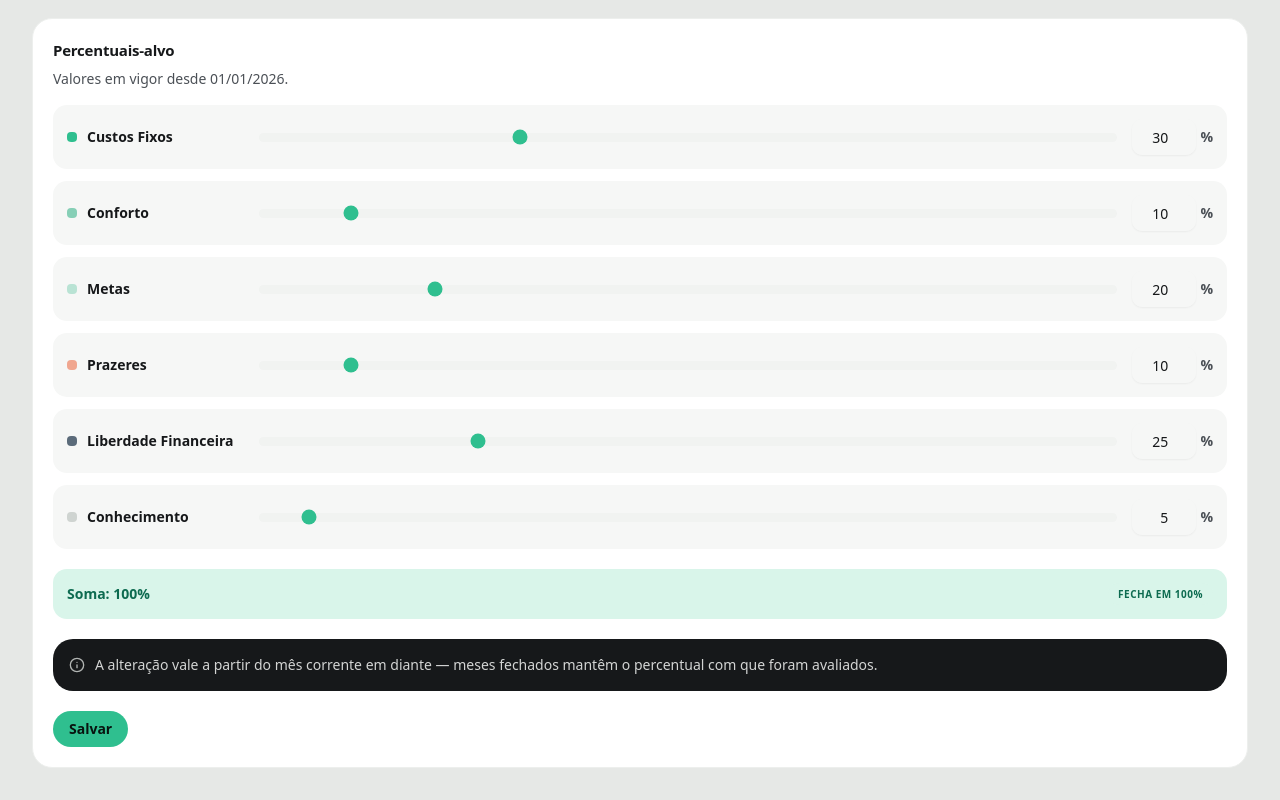
Test: PillarSettingsPage › translates the server's sum-must-be-100 rejection
(page scrolled)
Expected: the number field named "Custos Fixos" in the row of "Custos Fixos" is shown, [1132, 119, 1196, 155]
Click the button "Salvar": (91, 729) [53, 711, 128, 747]
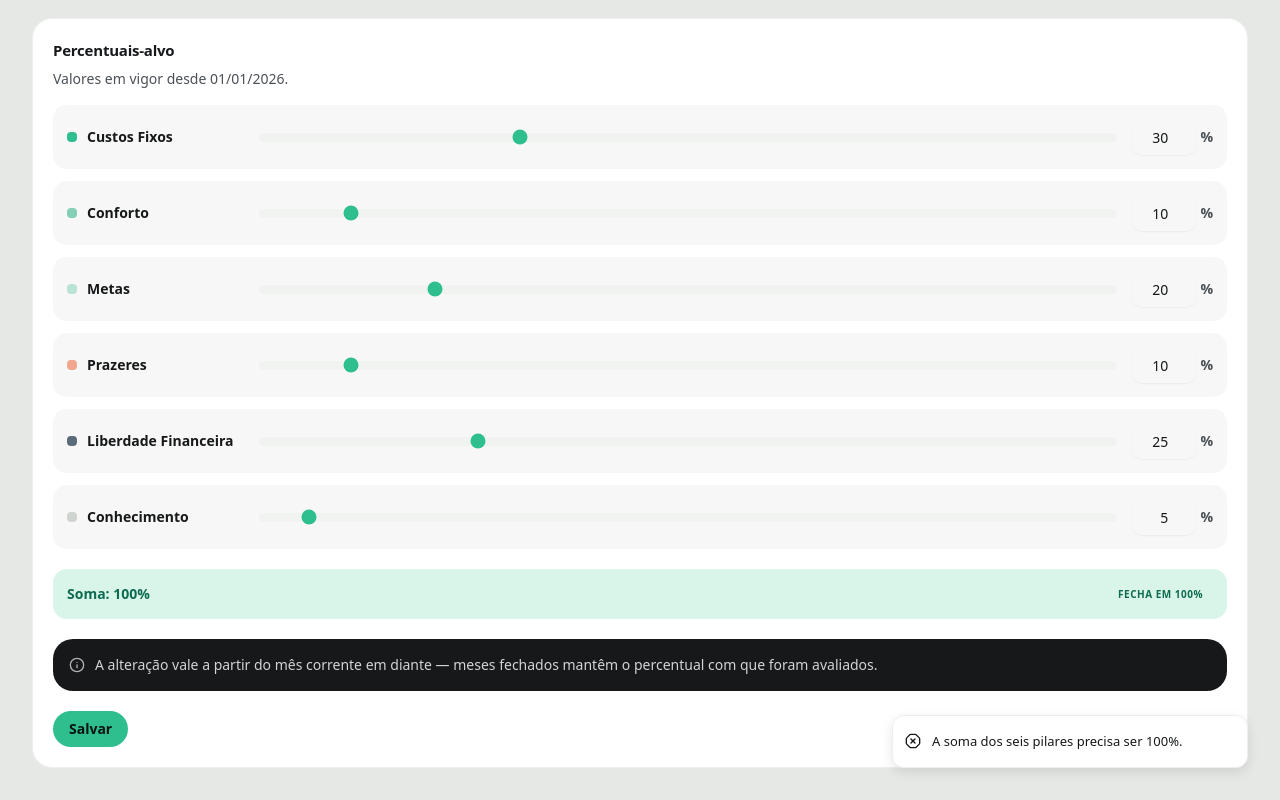
Expected: the text "A soma dos seis pilares precisa ser 100%." is shown, [932, 732, 1182, 751]
